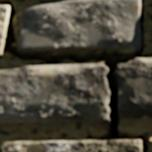brick: (18, 0, 140, 52), (1, 140, 141, 151), (0, 6, 9, 57)
broken_brick: (0, 65, 110, 124), (115, 58, 151, 118)
crack: (1, 0, 150, 151)
